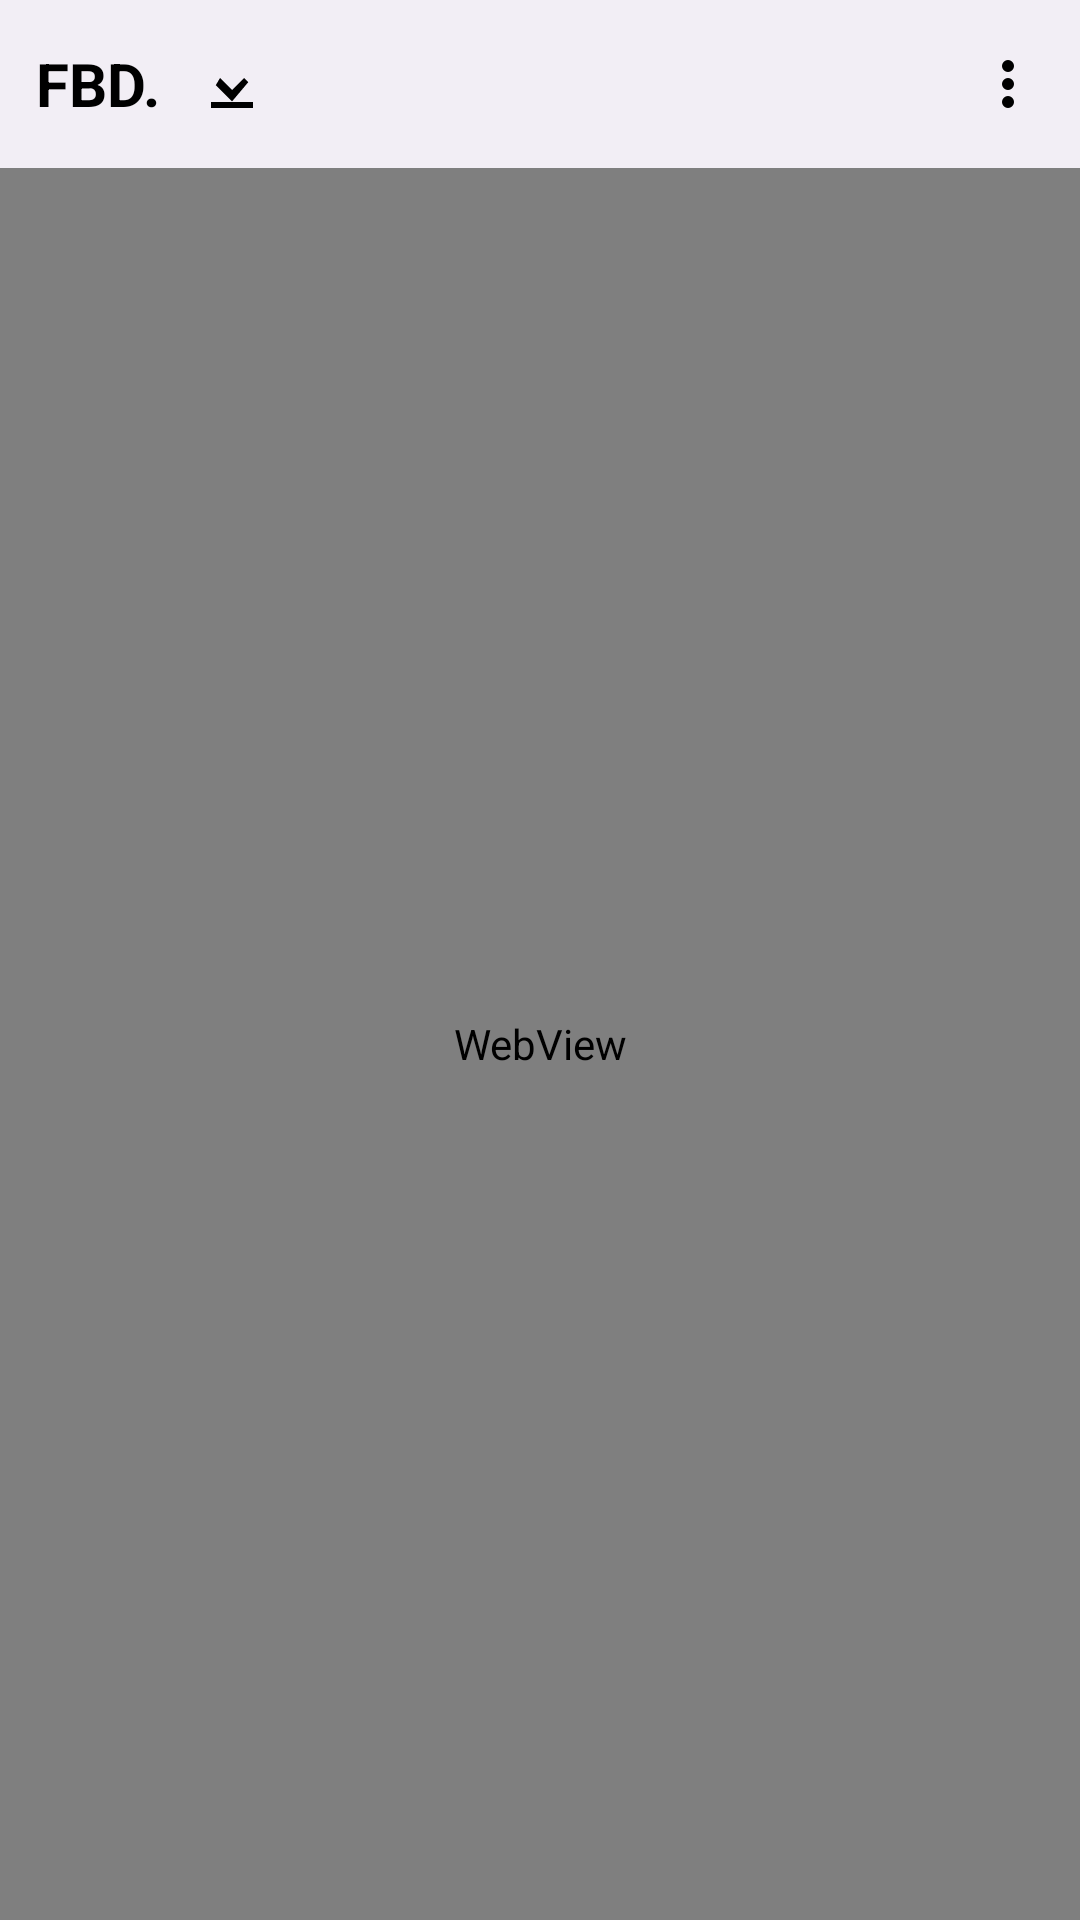

Icons on this 1080×1920 Android screen, each with the point to tap as point (x, y):
download: point (232, 93)
more: point (1008, 84)
